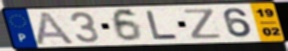3: (70, 11, 101, 44)
6: (109, 7, 145, 44), (223, 7, 255, 39)
A: (32, 11, 77, 46)
L: (144, 10, 181, 41)
Z: (182, 8, 224, 41)
